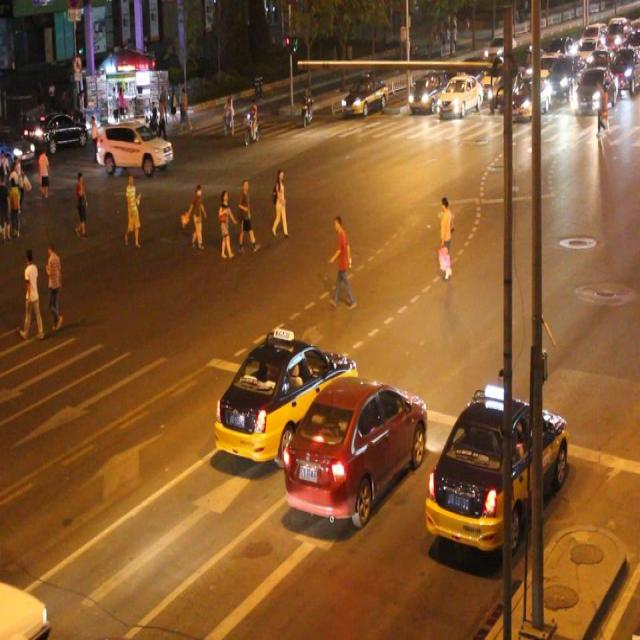car: (427, 393, 568, 552), (282, 375, 427, 526), (216, 337, 355, 464), (96, 122, 173, 174), (341, 73, 386, 119), (435, 75, 481, 116), (408, 71, 443, 112)
